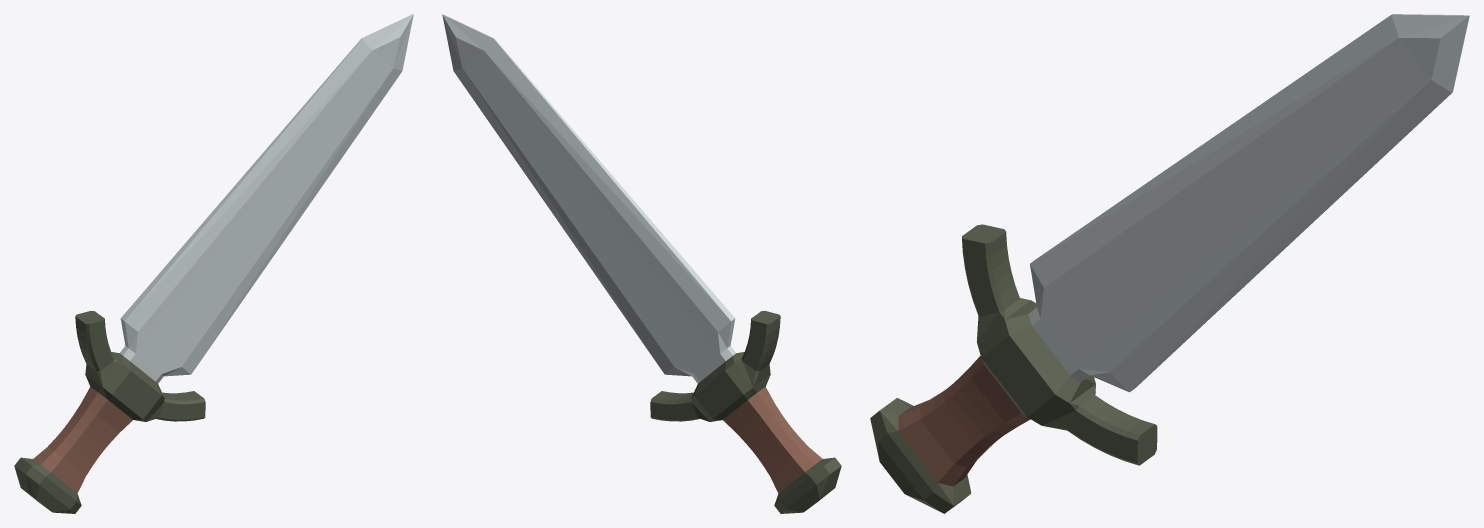
The model's file is sword_v1.glb.
3 views of the same model, side by side, from view 1: azimuth 30°, elevation 25°; view 2: azimuth 150°, elevation 25°; view 3: azimuth 330°, elevation 25° (orthographic). The views are drawn at different scales.
Visible parts, largest first — view 1: Sword; view 2: Sword; view 3: Sword.
Part boxes in pixels (x1,y1,x2,y2): Sword: (14, 14, 413, 513); Sword: (442, 14, 841, 513); Sword: (870, 14, 1469, 513).
Bounding box in the file's own units: 13.78 × 13.78 × 1.46.
